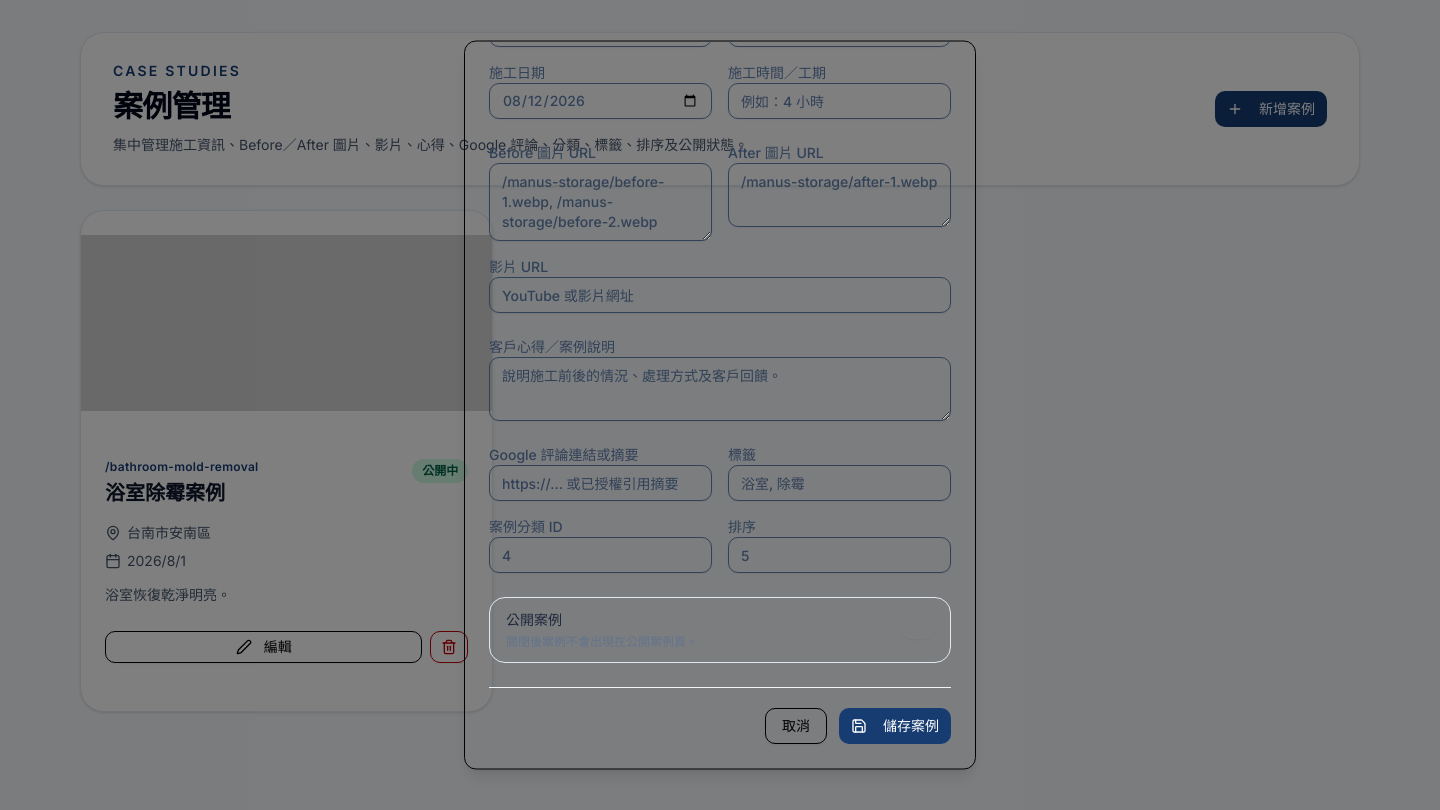
Scenario: CMSCases 案例管理 › 最高權限管理員可以建立包含媒體、分類、標籤與公開狀態的案例
Earlier steps of the test are not shown.
(page scrolled)
Click the button "儲存案例". click: point(895, 726)
box: top-left (839, 708), bottom-right (951, 744)
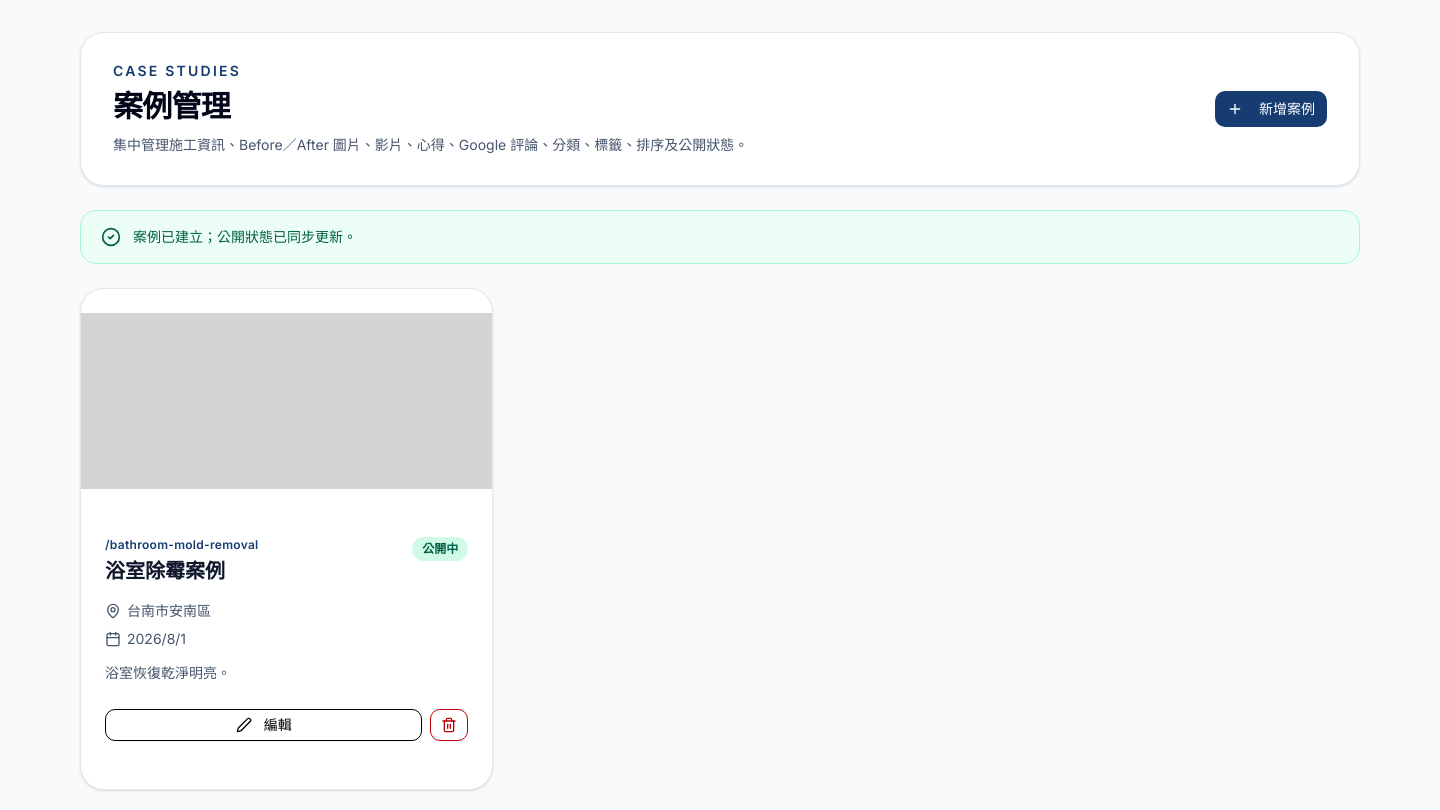
Check: the message shows "案例已建立", box top-left (133, 228), bottom-right (357, 245)
